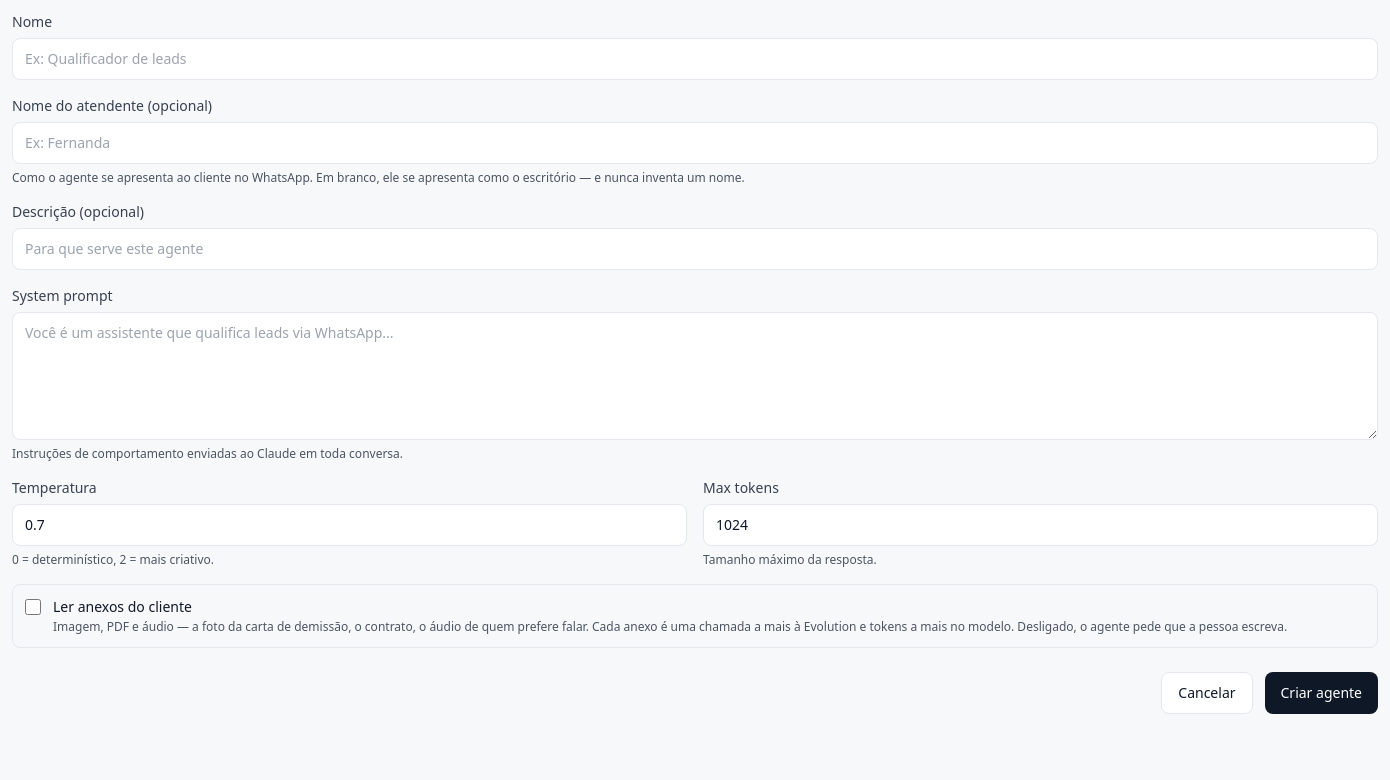
Test: AgentForm › bloqueia max tokens vazio
Type "Agente" into the field labelled "Nome" at (695, 59), box [12,38,1378,80]
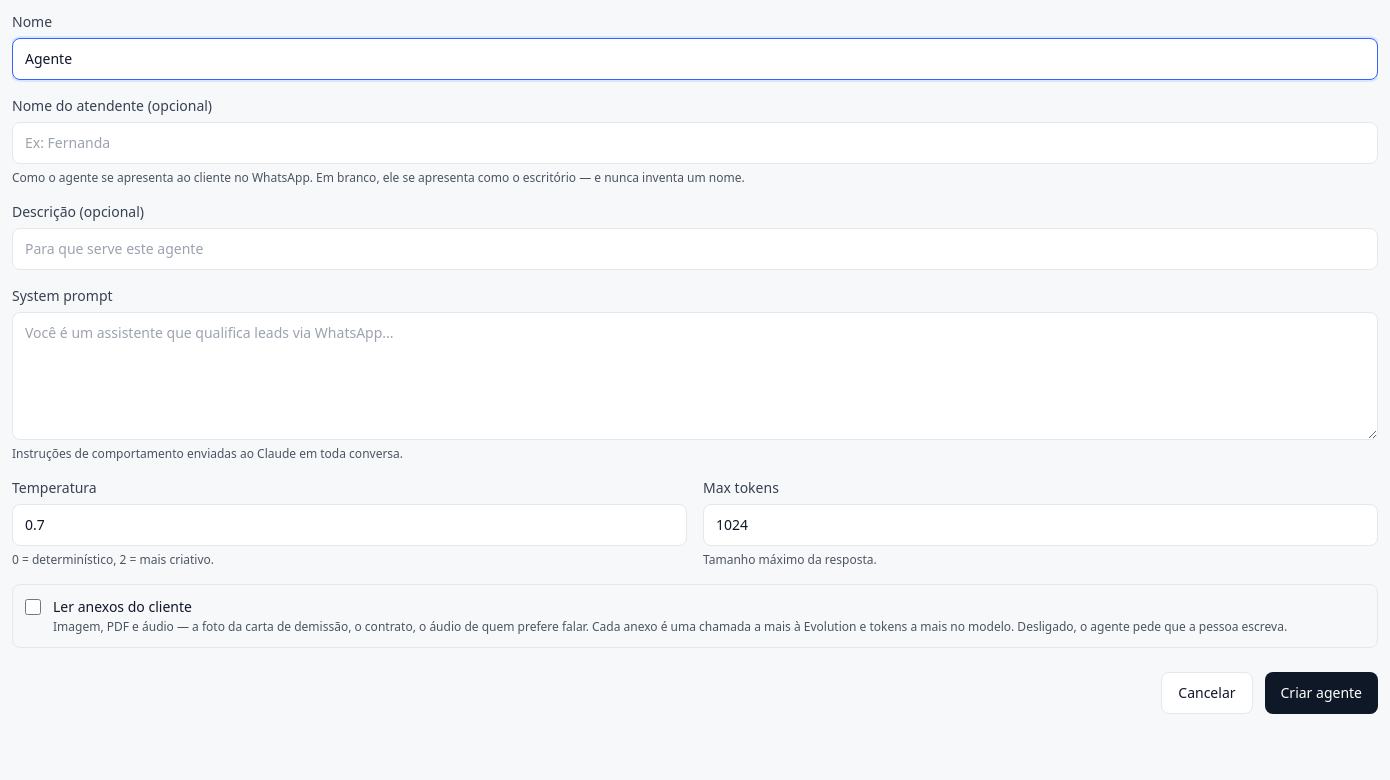
Type "Instruções" into the text box labelled "System prompt" at (695, 376), box [12,312,1378,440]
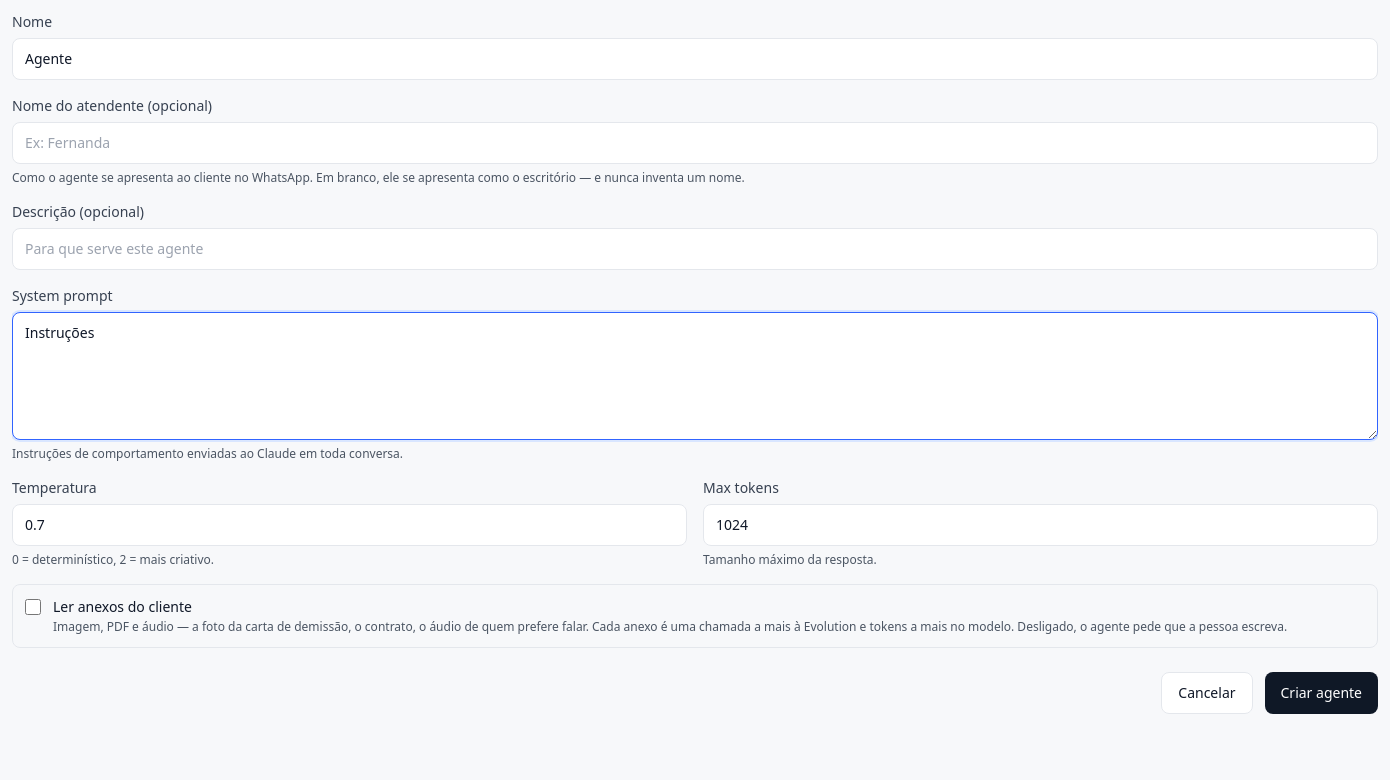
Clear the number field labelled "Max tokens" at (1040, 525), box [703,504,1378,546]
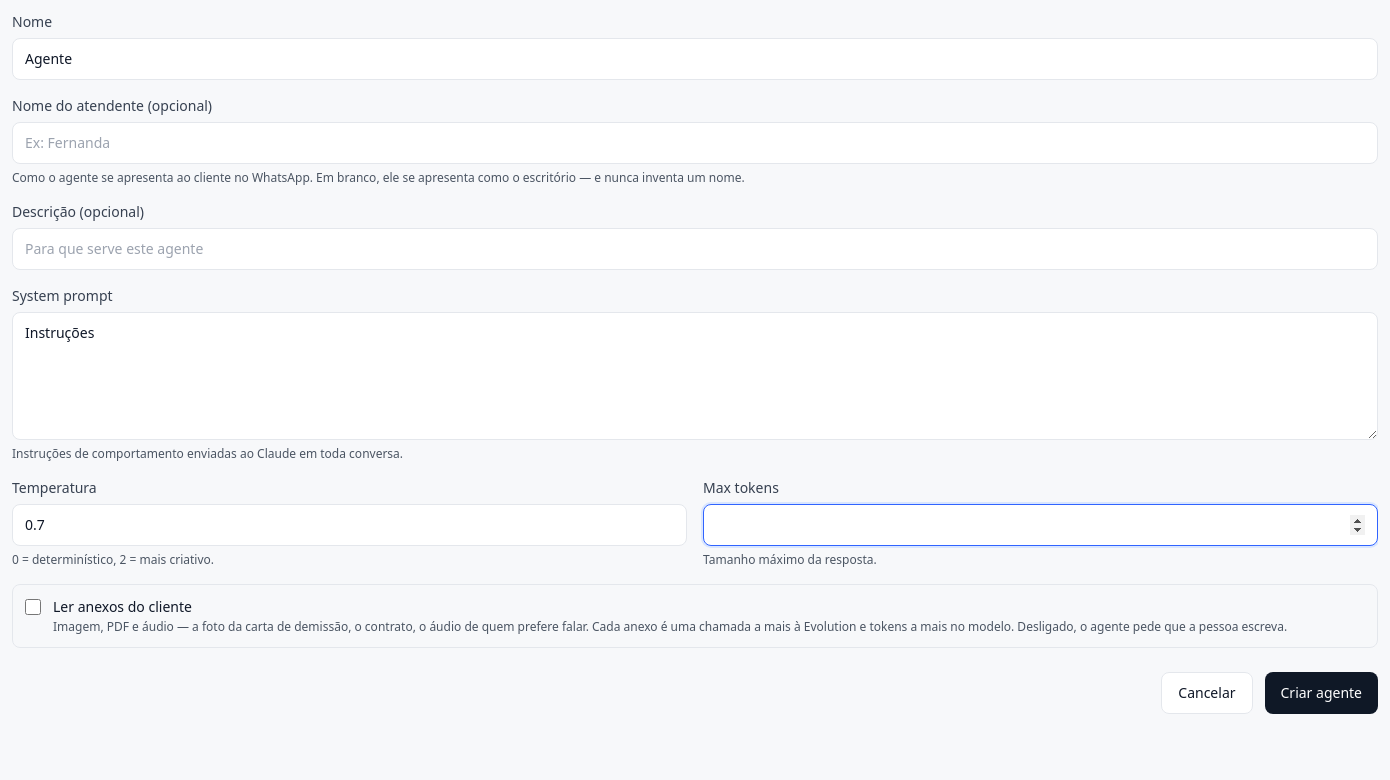
Click the button "Criar agente" at (1321, 693), box [1264,672,1378,714]
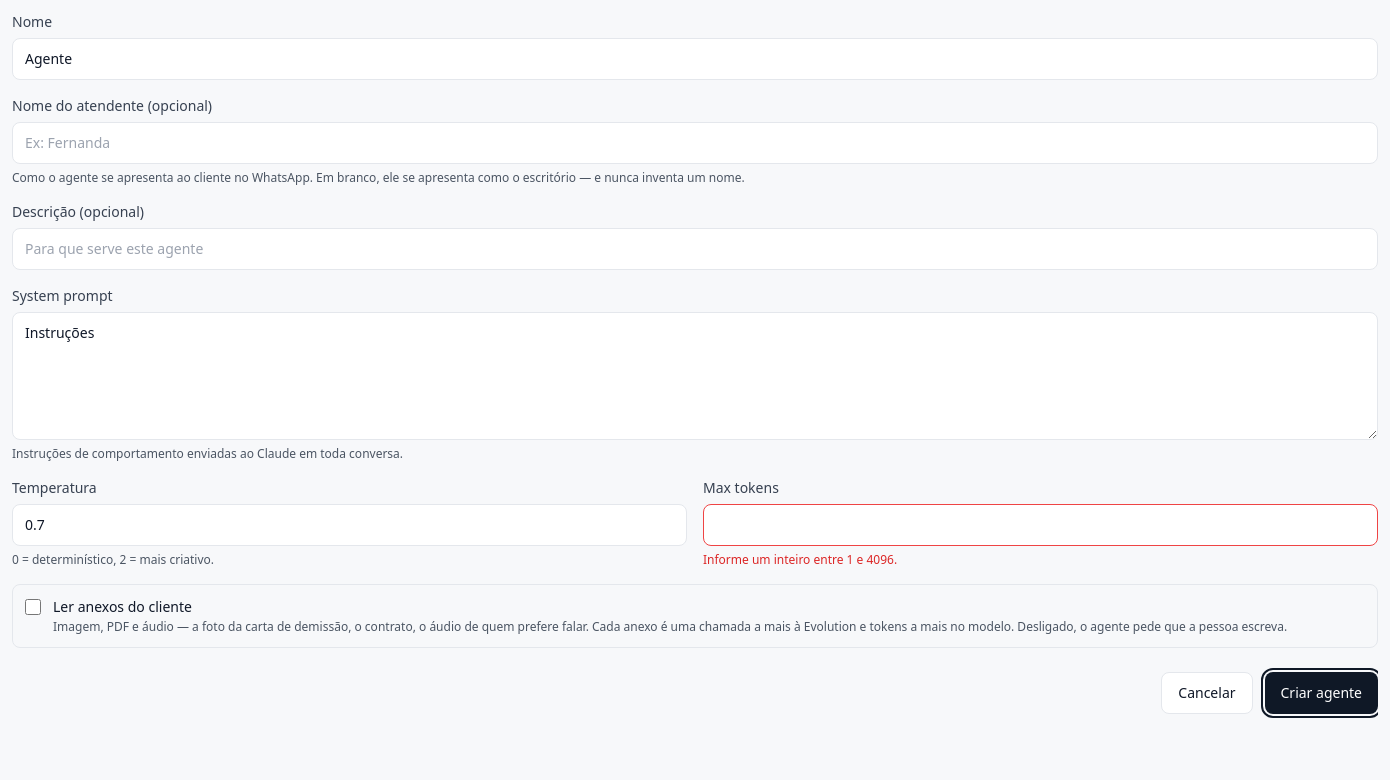
Expected: the text "Informe um inteiro entre 1 e 4096." is shown, [703,551,897,568]
